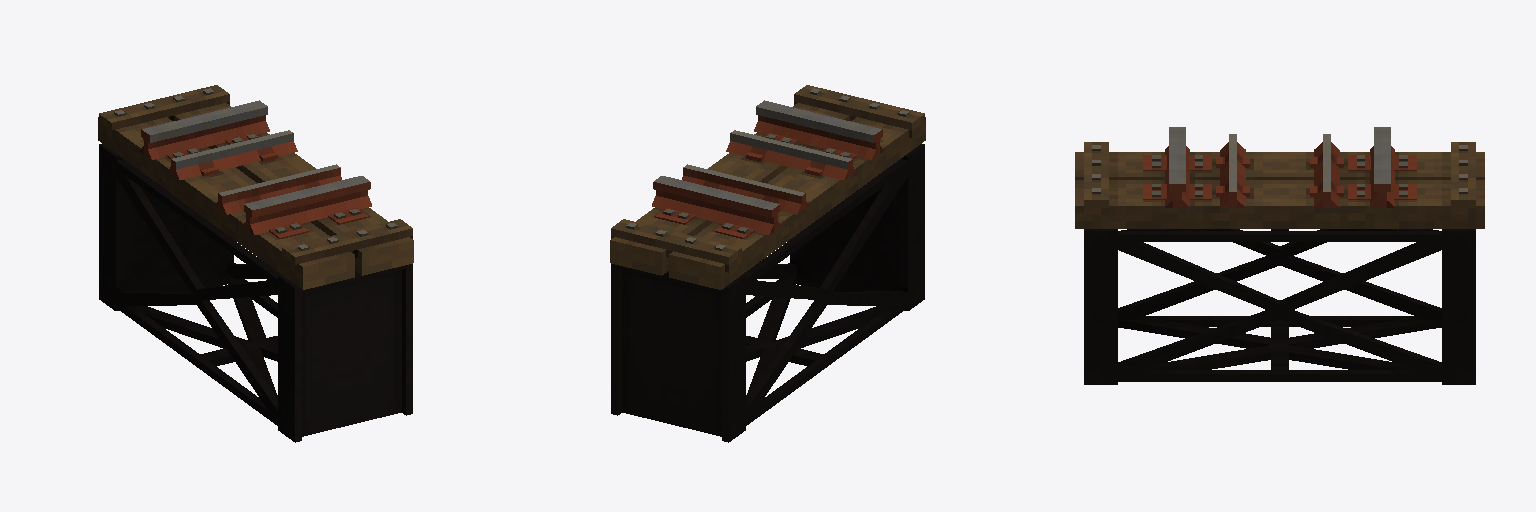
3 renders of one model, left to right at view 1: azimuth 30°, elevation 25°; view 2: azimuth 150°, elevation 25°; view 3: azimuth 270°, elevation 25°, orthographic.
Parts seen in each view (by area): view 1: RAIL_BASE_Cube.034, RAIL_RIGHT_Cube_Cube.001_RAIL_RIGHT_Cube_Cube.012, RAIL_LEFT_Cube_Cube.001_RAIL_LEFT_Cube_Cube.012; view 2: RAIL_BASE_Cube.034, RAIL_LEFT_Cube_Cube.001_RAIL_LEFT_Cube_Cube.012, RAIL_RIGHT_Cube_Cube.001_RAIL_RIGHT_Cube_Cube.012; view 3: RAIL_BASE_Cube.034, RAIL_LEFT_Cube_Cube.001_RAIL_LEFT_Cube_Cube.012, RAIL_RIGHT_Cube_Cube.001_RAIL_RIGHT_Cube_Cube.012.
Part boxes in pixels (bbox=[...]): RAIL_BASE_Cube.034: bbox=[98, 85, 413, 442]; RAIL_RIGHT_Cube_Cube.001_RAIL_RIGHT_Cube_Cube.012: bbox=[140, 100, 297, 179]; RAIL_LEFT_Cube_Cube.001_RAIL_LEFT_Cube_Cube.012: bbox=[214, 164, 371, 234]; RAIL_BASE_Cube.034: bbox=[610, 85, 925, 442]; RAIL_LEFT_Cube_Cube.001_RAIL_LEFT_Cube_Cube.012: bbox=[726, 100, 883, 179]; RAIL_RIGHT_Cube_Cube.001_RAIL_RIGHT_Cube_Cube.012: bbox=[652, 164, 809, 234]; RAIL_BASE_Cube.034: bbox=[1075, 142, 1484, 384]; RAIL_LEFT_Cube_Cube.001_RAIL_LEFT_Cube_Cube.012: bbox=[1165, 127, 1245, 207]; RAIL_RIGHT_Cube_Cube.001_RAIL_RIGHT_Cube_Cube.012: bbox=[1314, 127, 1394, 207].
Size of the model in its own units: 1 by 1.62 by 3.
1 materials, 1 textured.